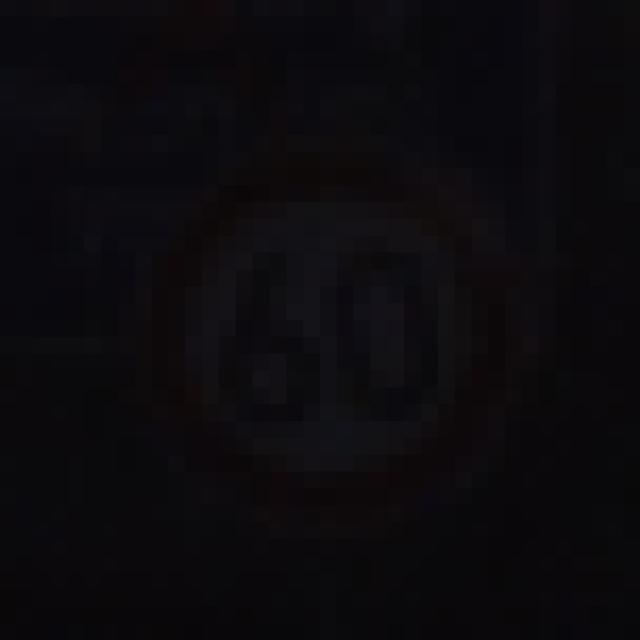Ograniczenie predkosci do 60: (98, 115, 590, 570)
